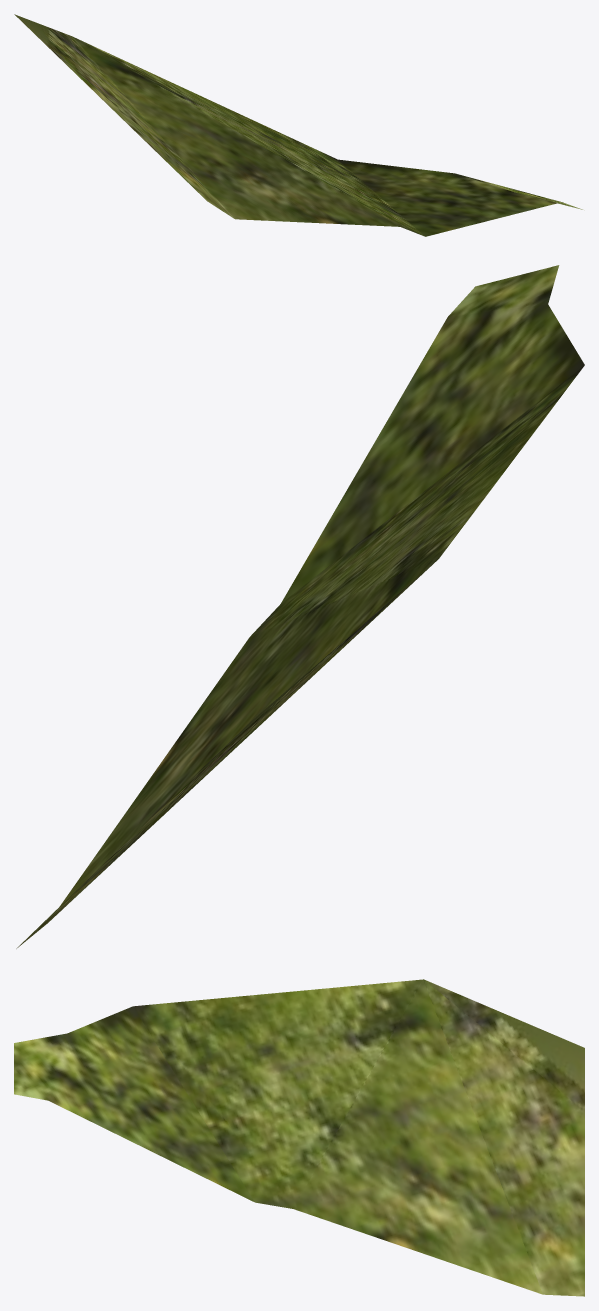
3 renders of one model, top to bottom at view 1: azimuth 30°, elevation 25°; view 2: azimuth 150°, elevation 25°; view 3: azimuth 270°, elevation 25°, orthographic. The views are drawn at different scales.
Size of the model in its own units: 1.09 by 1.3 by 2.95.
Materials: 1 (1 with a texture image).
